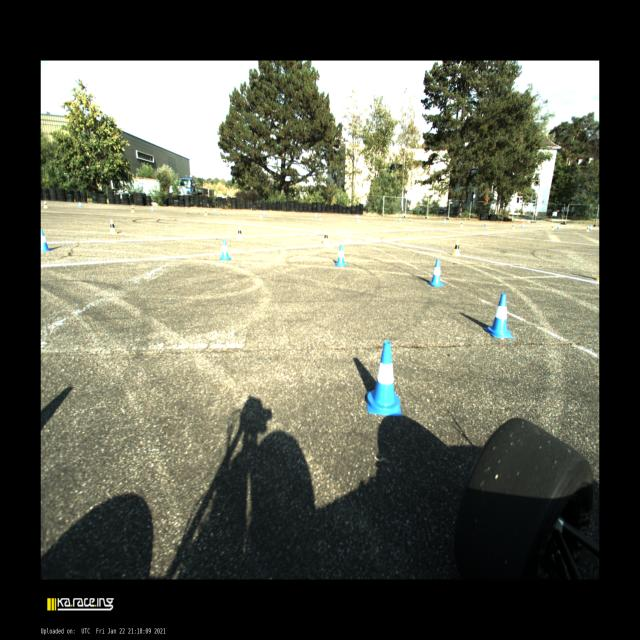blue_cone: (366, 341, 400, 415), (484, 293, 513, 339), (428, 259, 443, 287), (334, 245, 346, 266), (219, 239, 230, 260), (41, 229, 50, 251), (78, 202, 82, 207)
yellow_cone: (109, 219, 117, 234), (453, 240, 460, 255), (44, 201, 48, 208), (130, 206, 134, 212)
